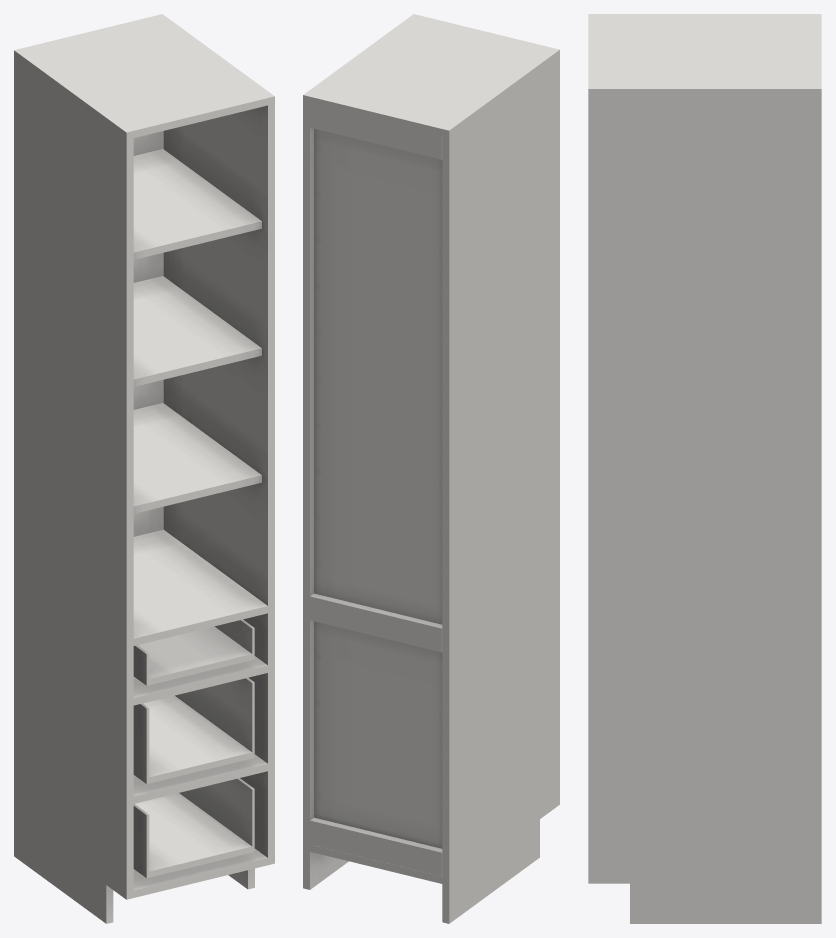
Rendered from vanity-tower-1-door-3-drawer-doors-off.glb.
3 renders of one model, left to right at view 1: azimuth 30°, elevation 25°; view 2: azimuth 150°, elevation 25°; view 3: azimuth 270°, elevation 25°, orthographic. The views are drawn at different scales.
Visible parts, largest first — view 1: part_0, part_13; view 2: part_0; view 3: part_0.
Boxes of the visible parts, x1=… form: part_0: x1=14, y1=14, x2=274, y2=923; part_13: x1=133, y1=619, x2=254, y2=878; part_0: x1=303, y1=14, x2=559, y2=923; part_0: x1=588, y1=14, x2=821, y2=923.
Bounding box in the file's own units: 0.4064 × 2.11 × 0.5335.
Materials: 2 (1 with a texture image).
